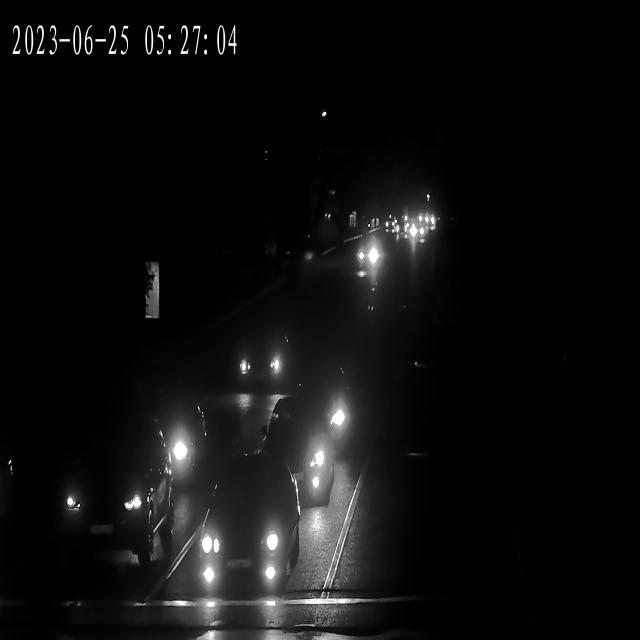Car: (55, 424, 173, 575), (201, 466, 300, 598), (260, 406, 339, 512), (148, 399, 204, 491), (298, 366, 354, 455), (236, 323, 288, 385), (355, 238, 384, 271), (384, 212, 399, 235), (408, 221, 424, 242), (426, 214, 438, 236)
